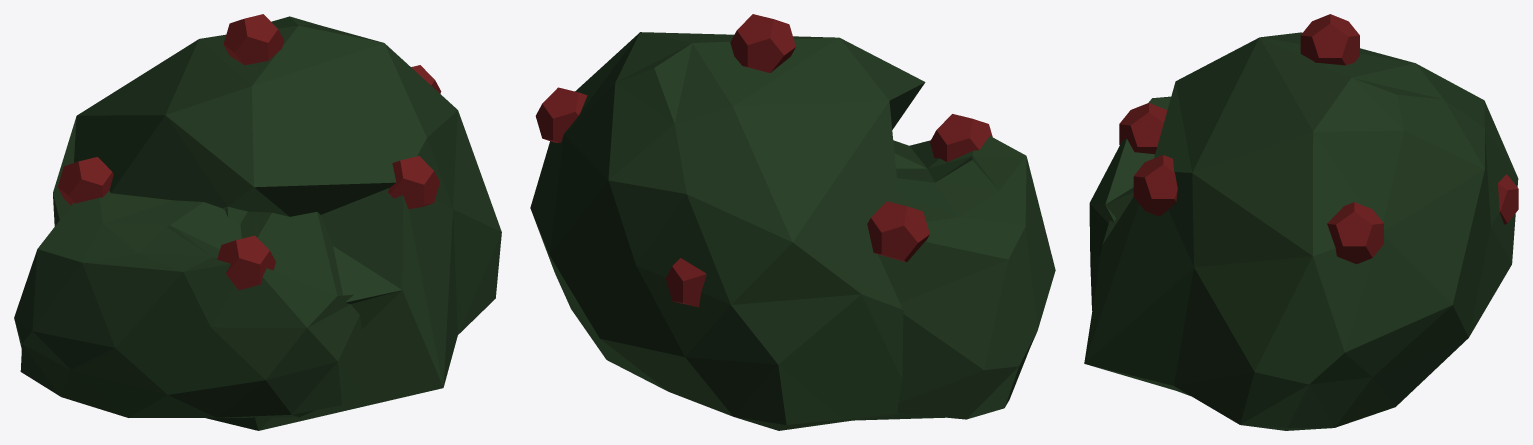
File: SM_TestBush3.fbx
The picture shows the model from 3 angles, left to right: view 1: azimuth 30°, elevation 25°; view 2: azimuth 150°, elevation 25°; view 3: azimuth 270°, elevation 25°; orthographic projection. The views are drawn at different scales.
Visible parts, largest first — view 1: pPlatonic4, pasted__pPlatonic4, pasted__pPlatonic5 (×3), pPlatonic5; view 2: pPlatonic4, pasted__pPlatonic4, pasted__pPlatonic5 (×5); view 3: pPlatonic4, pasted__pPlatonic5 (×4), pasted__pPlatonic4, pPlatonic5.
Part boxes in pixels (x1=…): pPlatonic4: x1=53, y1=16, x2=501, y2=430; pasted__pPlatonic4: x1=14, y1=191, x2=361, y2=417; pasted__pPlatonic5 (×3): x1=57, y1=14, x2=284, y2=290; pPlatonic5: x1=388, y1=156, x2=439, y2=209; pPlatonic4: x1=530, y1=32, x2=925, y2=430; pasted__pPlatonic4: x1=854, y1=136, x2=1055, y2=420; pasted__pPlatonic5 (×5): x1=535, y1=14, x2=992, y2=307; pPlatonic4: x1=1084, y1=32, x2=1518, y2=430; pasted__pPlatonic5 (×4): x1=1119, y1=14, x2=1518, y2=264; pasted__pPlatonic4: x1=1089, y1=96, x2=1170, y2=310; pPlatonic5: x1=1133, y1=155, x2=1177, y2=216.
Size of the model in its own units: 3.96 by 2.83 by 3.21.
